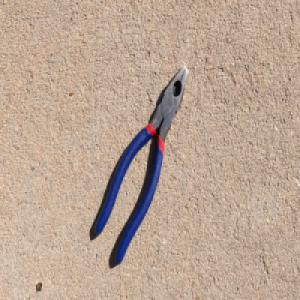Pliers: (93, 62, 188, 268)
